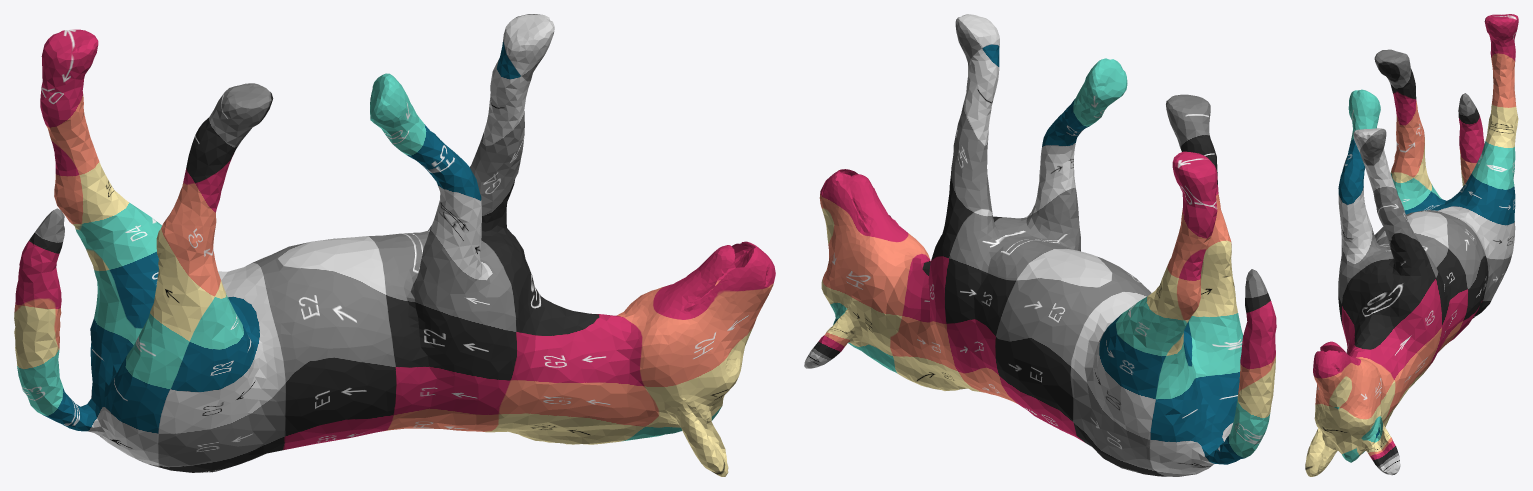
Rendered from cougar_02-horse_03.obj.
3 renders of one model, left to right at view 1: azimuth 30°, elevation 25°; view 2: azimuth 150°, elevation 25°; view 3: azimuth 270°, elevation 25°, orthographic. The views are drawn at different scales.
Visible parts, largest first — view 1: cougar_02-horse_03_export; view 2: cougar_02-horse_03_export; view 3: cougar_02-horse_03_export.
Boxes of the visible parts, bbox=[...] form: cougar_02-horse_03_export: bbox=[14, 14, 775, 476]; cougar_02-horse_03_export: bbox=[804, 14, 1276, 476]; cougar_02-horse_03_export: bbox=[1305, 14, 1518, 476].
Size of the model in its own units: 0.9635 by 0.6562 by 0.422.
